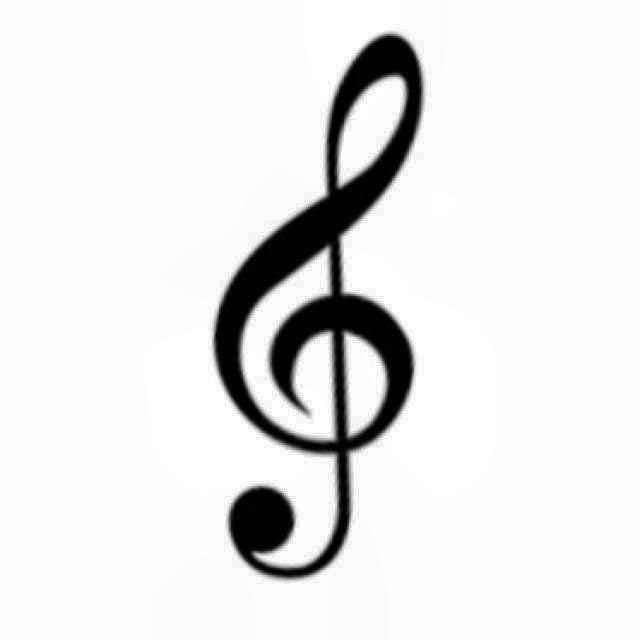Treble-clef: (202, 22, 436, 598)
